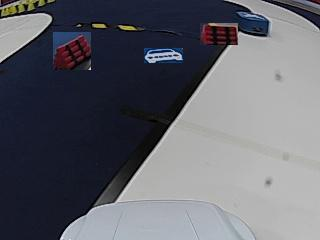prop: (238, 12, 269, 36)
